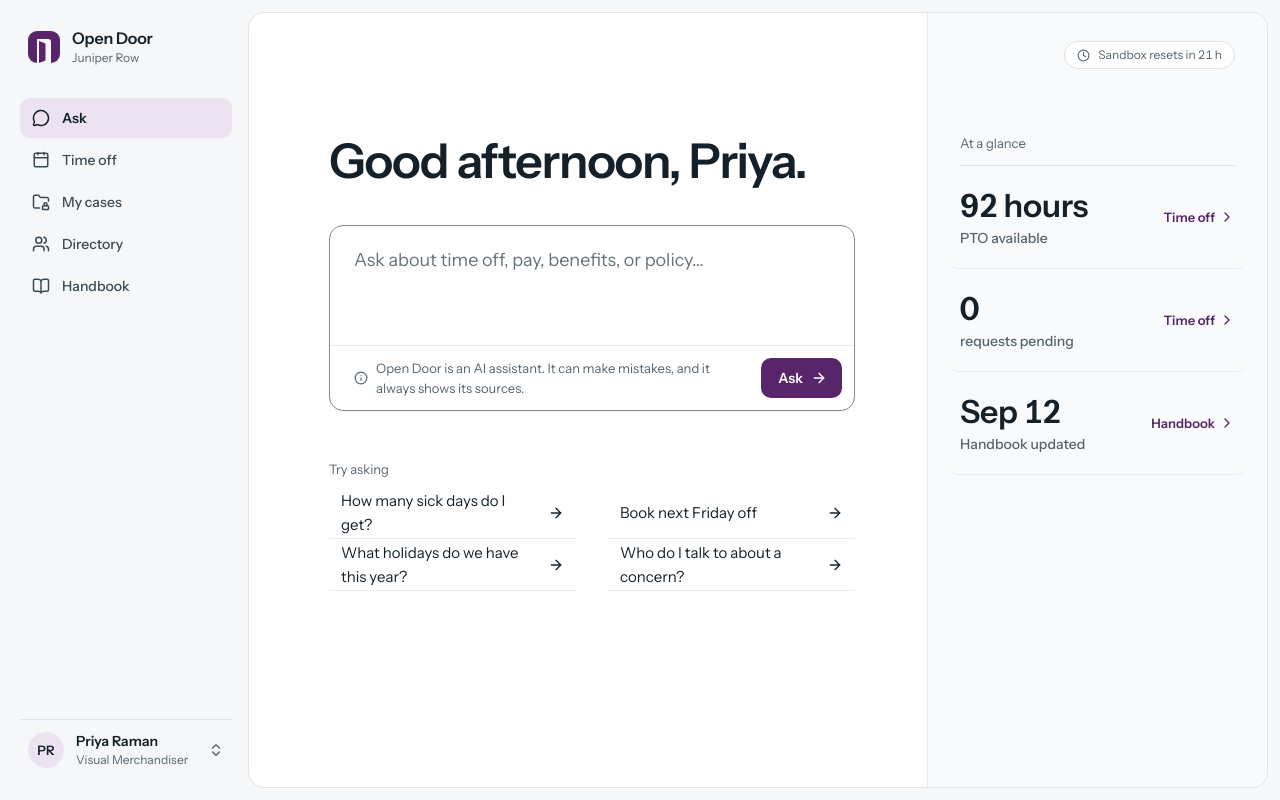
Test: the shell: switching › keeps the old person and shows an error when the switch fails, and the switcher works again
The width and height of the screenshot is (1280, 800).
Expected: the element named "Sidebar" is shown, [0,0,248,799]
Click the button named "Switch persona" at (126, 750), box [20,719,232,780]
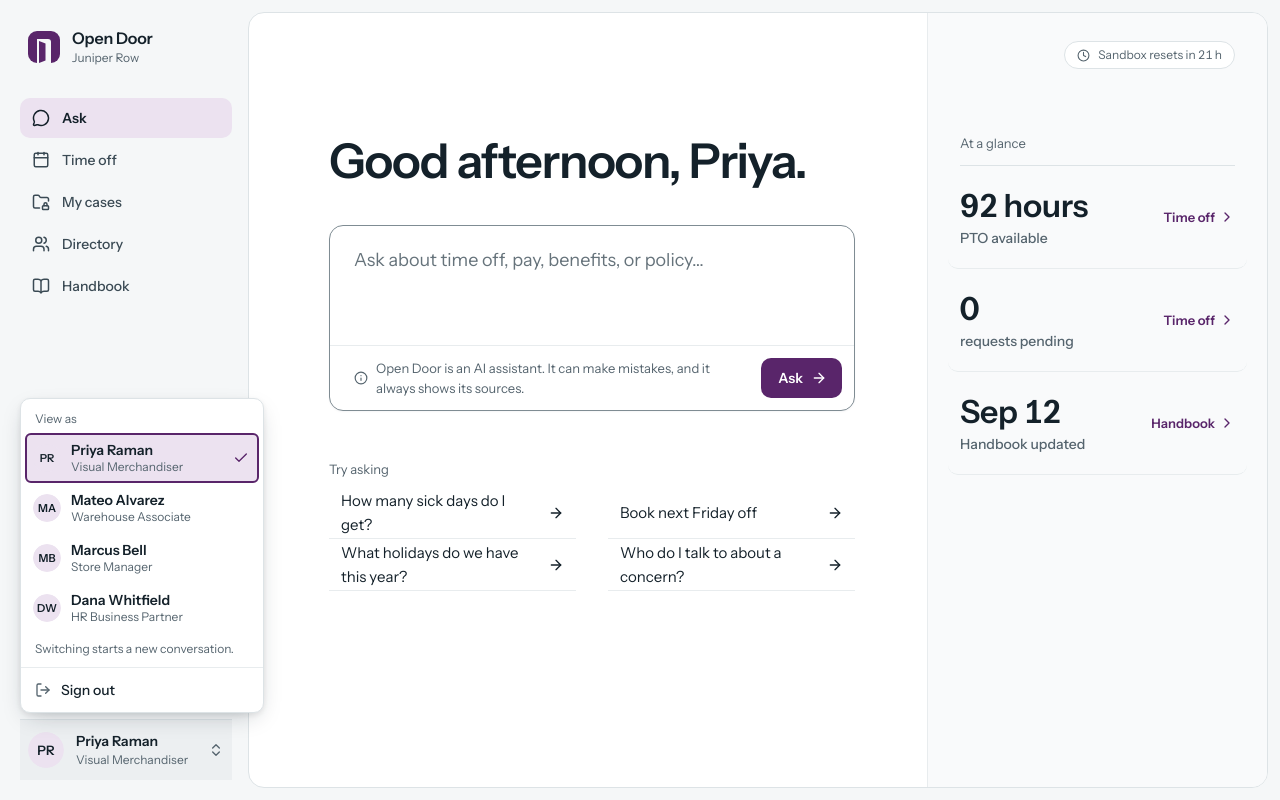
Click the menu item "MB Marcus Bell Store Manager" at (93, 558), box [33,541,152,574]
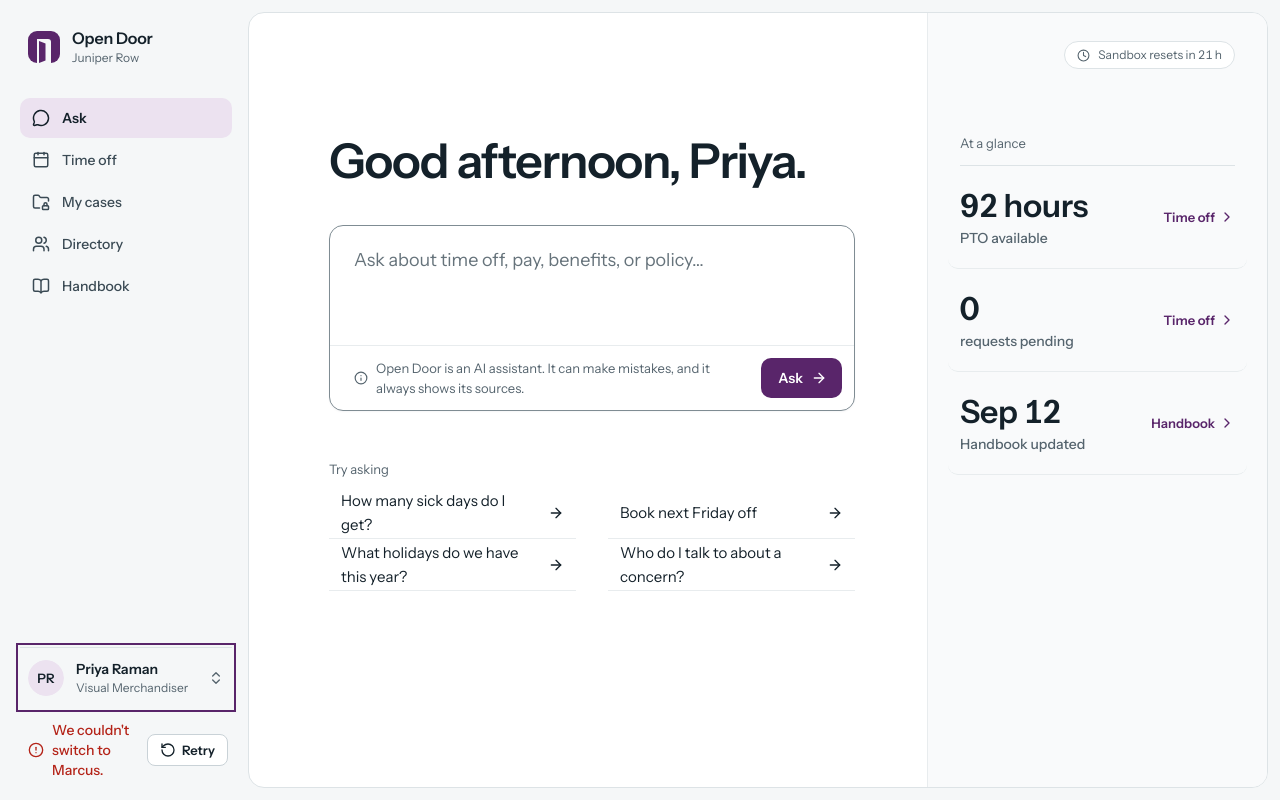
Expected: the message shows "We couldn't switch to Marcus.", [52,721,129,779]
Click the button "Retry" at (188, 750), box [147,734,228,766]
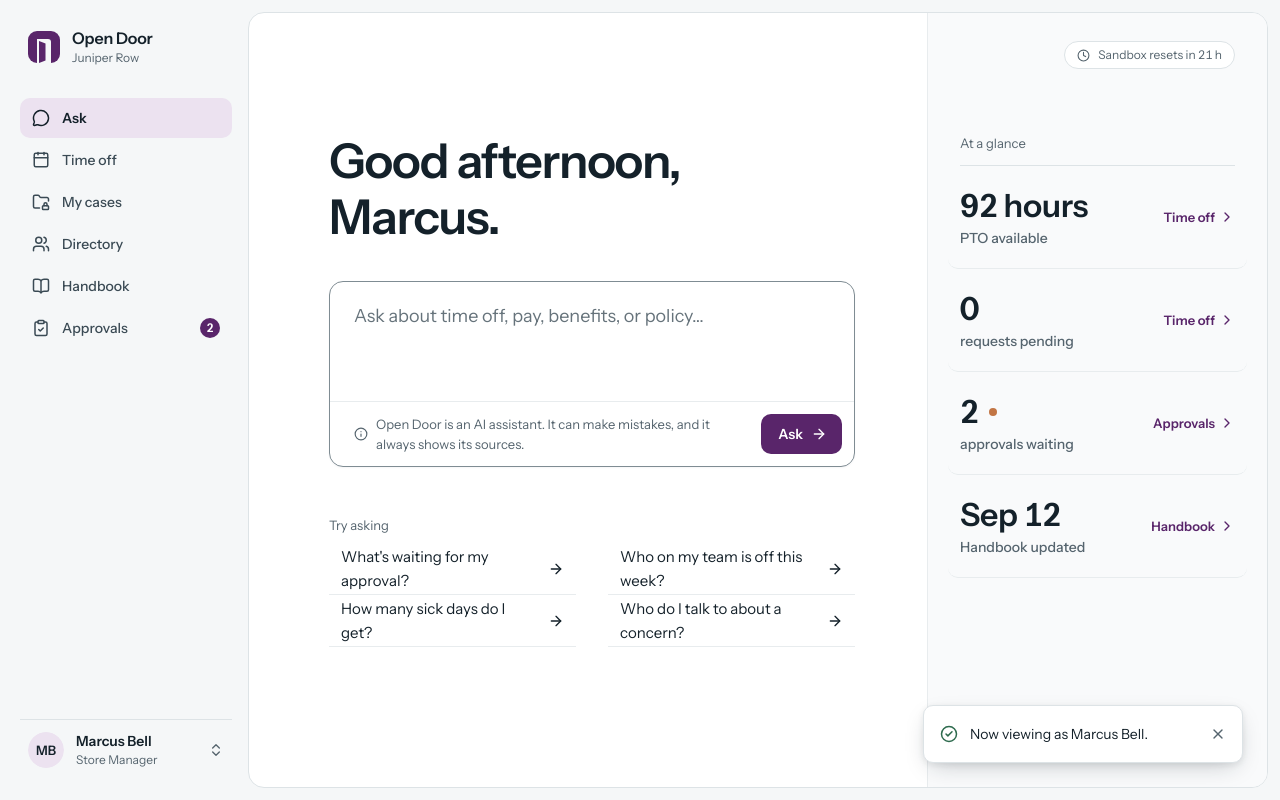
Expected: the message "We couldn't switch to Marcus. Retry" is gone
